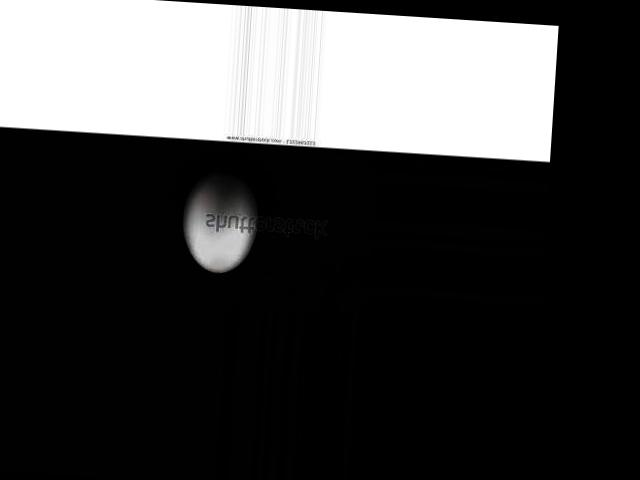egg: (179, 168, 259, 276)
